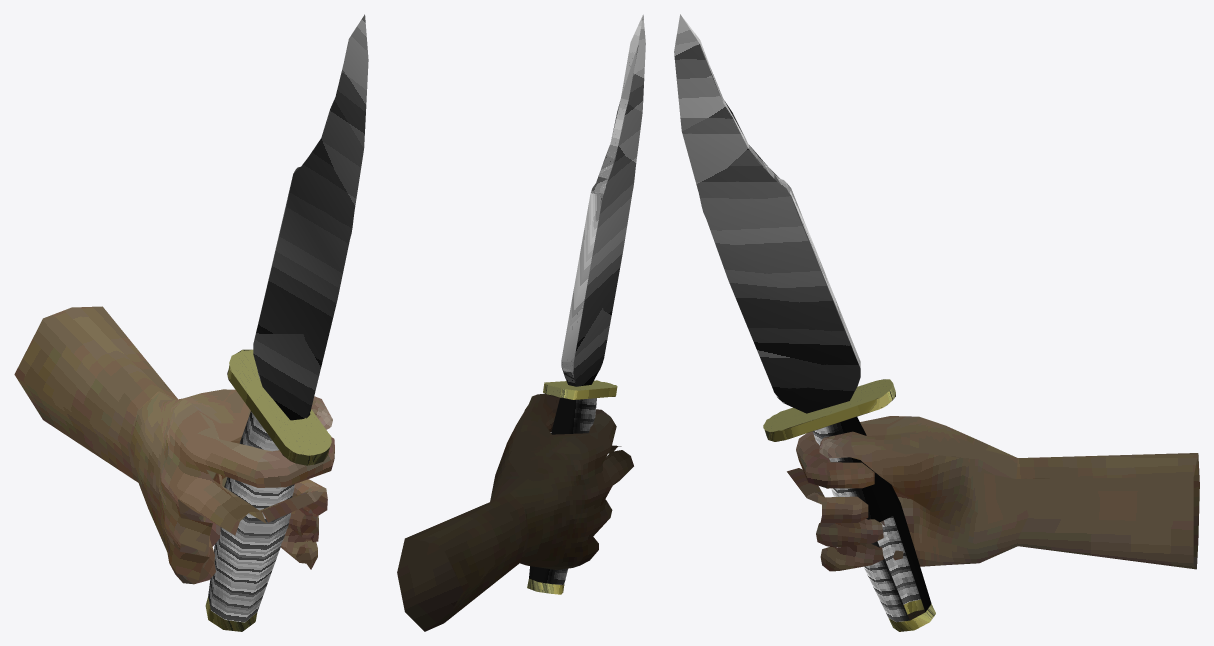
Rendered from GknifeZ.obj.
3 views of the same model, side by side, from view 1: azimuth 30°, elevation 25°; view 2: azimuth 150°, elevation 25°; view 3: azimuth 270°, elevation 25° (orthographic). The views are drawn at different scales.
Size of the model in its own units: 83 by 439 by 341.
24 materials, 24 textured.
